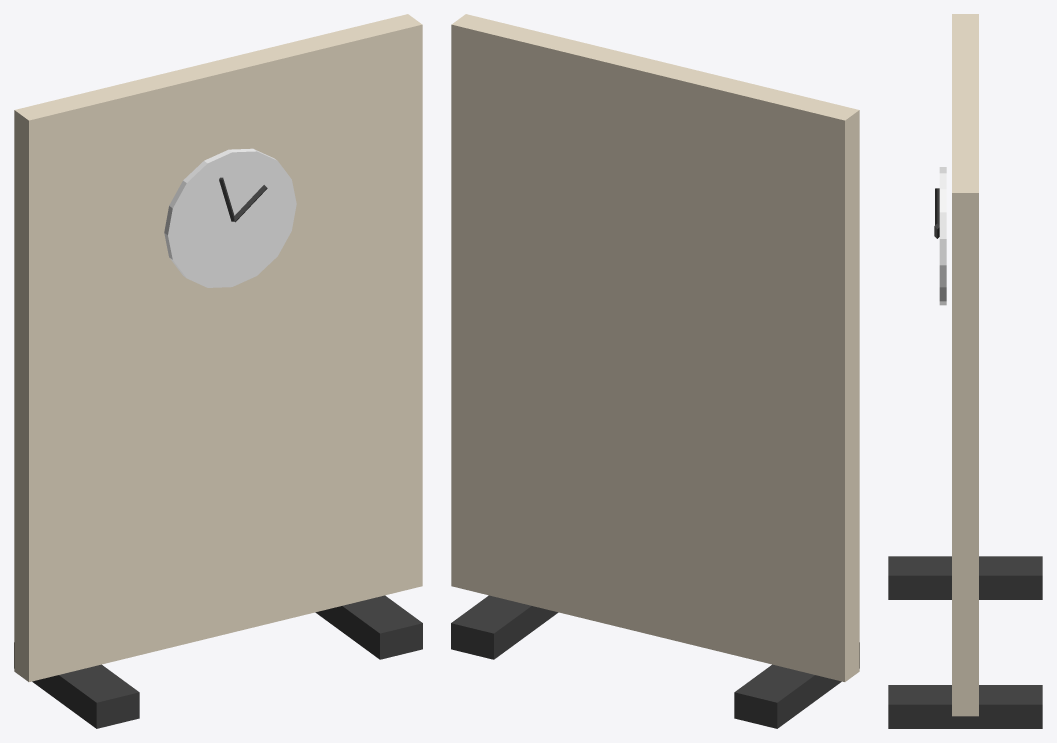
The picture shows the model from 3 angles, left to right: view 1: azimuth 30°, elevation 25°; view 2: azimuth 150°, elevation 25°; view 3: azimuth 270°, elevation 25°; orthographic projection. The views are drawn at different scales.
Parts seen in each view (by area): view 1: Panel, Clock face, Panel foot, Panel foot.001; view 2: Panel, Panel foot, Panel foot.001; view 3: Panel, Panel foot.001, Panel foot, Clock face.
Boxes of the visible parts, left/top/right/bottom form: Panel: left=14, top=14, right=422, bottom=681; Clock face: left=164, top=148, right=296, bottom=287; Panel foot: left=14, top=642, right=139, bottom=728; Panel foot.001: left=315, top=595, right=422, bottom=659; Panel: left=451, top=14, right=859, bottom=681; Panel foot: left=734, top=642, right=859, bottom=728; Panel foot.001: left=451, top=595, right=558, bottom=659; Panel: left=952, top=14, right=978, bottom=716; Panel foot.001: left=888, top=685, right=1042, bottom=728; Panel foot: left=888, top=556, right=1042, bottom=599; Clock face: left=939, top=167, right=946, bottom=305.
Size of the model in its own units: 1.1 by 1.58 by 0.4.
Materials: 1 (1 with a texture image).
